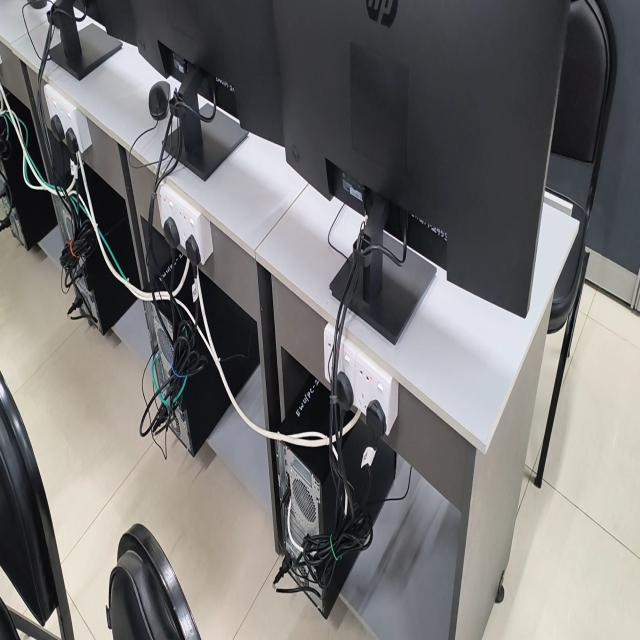Chair: (534, 0, 617, 488), (0, 372, 74, 639), (106, 523, 201, 639)
Cpu: (274, 370, 396, 619), (142, 249, 260, 456), (53, 158, 142, 341), (2, 97, 59, 252)
Monitor: (275, 0, 569, 343), (97, 0, 284, 180), (47, 0, 122, 80)
Mouse: (148, 81, 170, 120), (27, 0, 47, 9)
